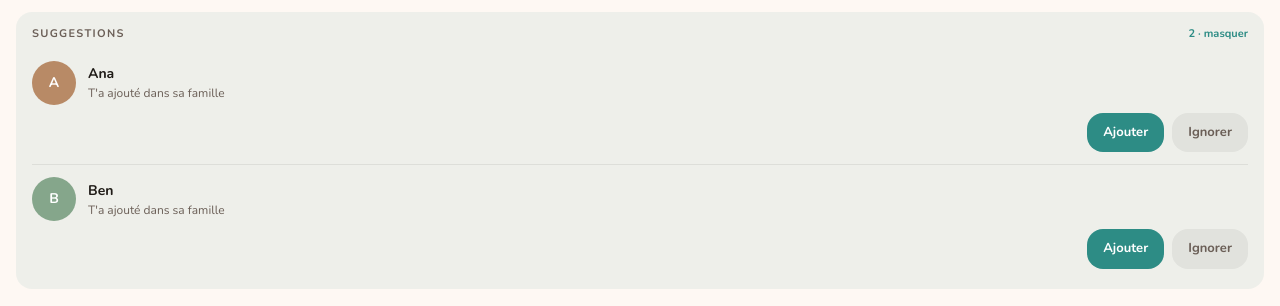
Test case: FamilySuggestionsSection › disables every row while one action is in flight and posts the action
Expected: the text "Ana" is shown, [88,64,114,83]
Click the 1st button "Ajouter": [1126, 132] box [1087,112,1164,152]
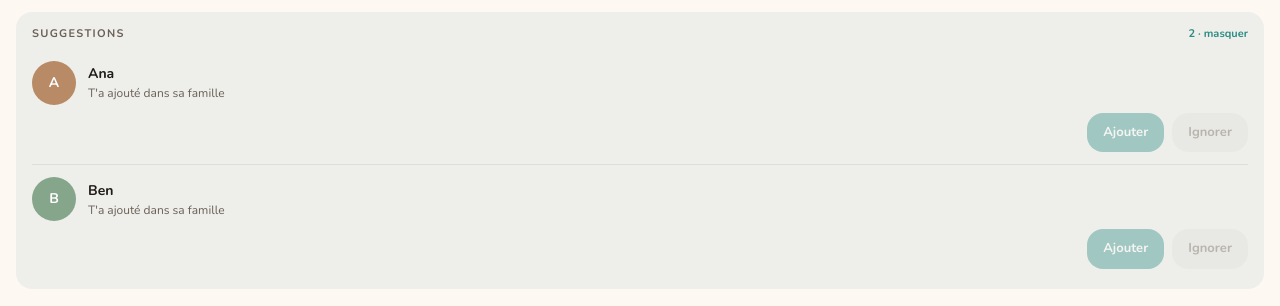
Now the 1st button "Ajouter" is disabled, box [1087,112,1164,152]
Now the 2nd button "Ajouter" is disabled, box [1087,229,1164,268]
